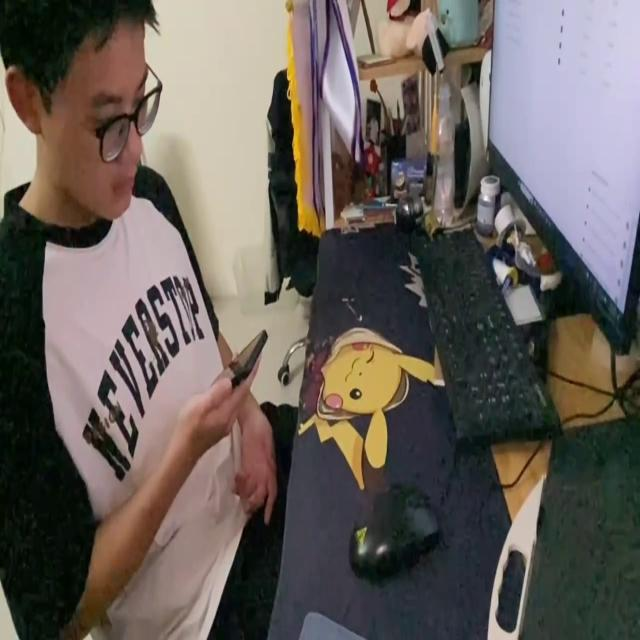laptop: (484, 0, 640, 366)
phone: (203, 322, 270, 395)
student: (1, 0, 281, 640)
